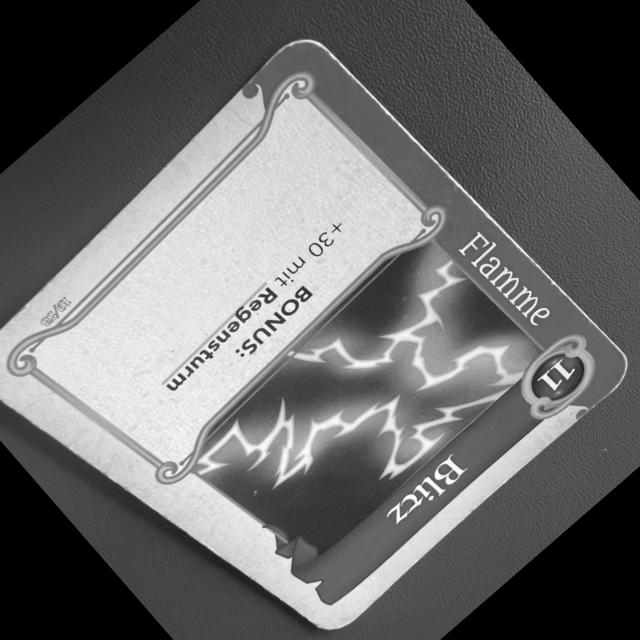Lightning: (0, 21, 638, 640)
